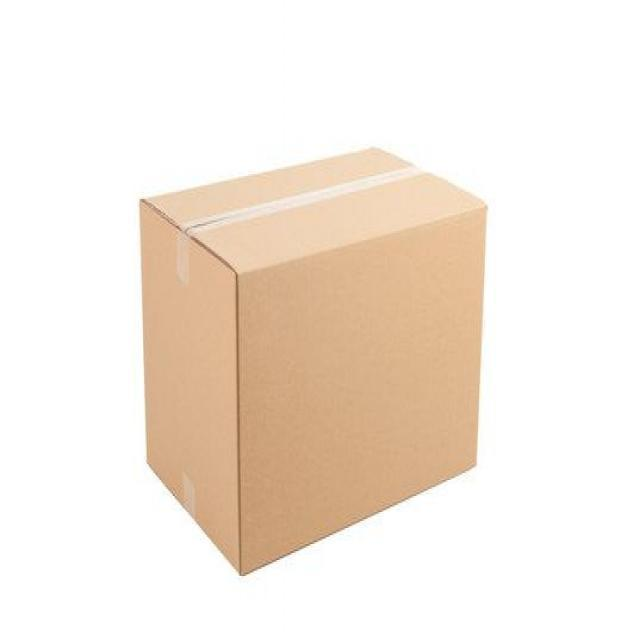box: (133, 140, 488, 580)
